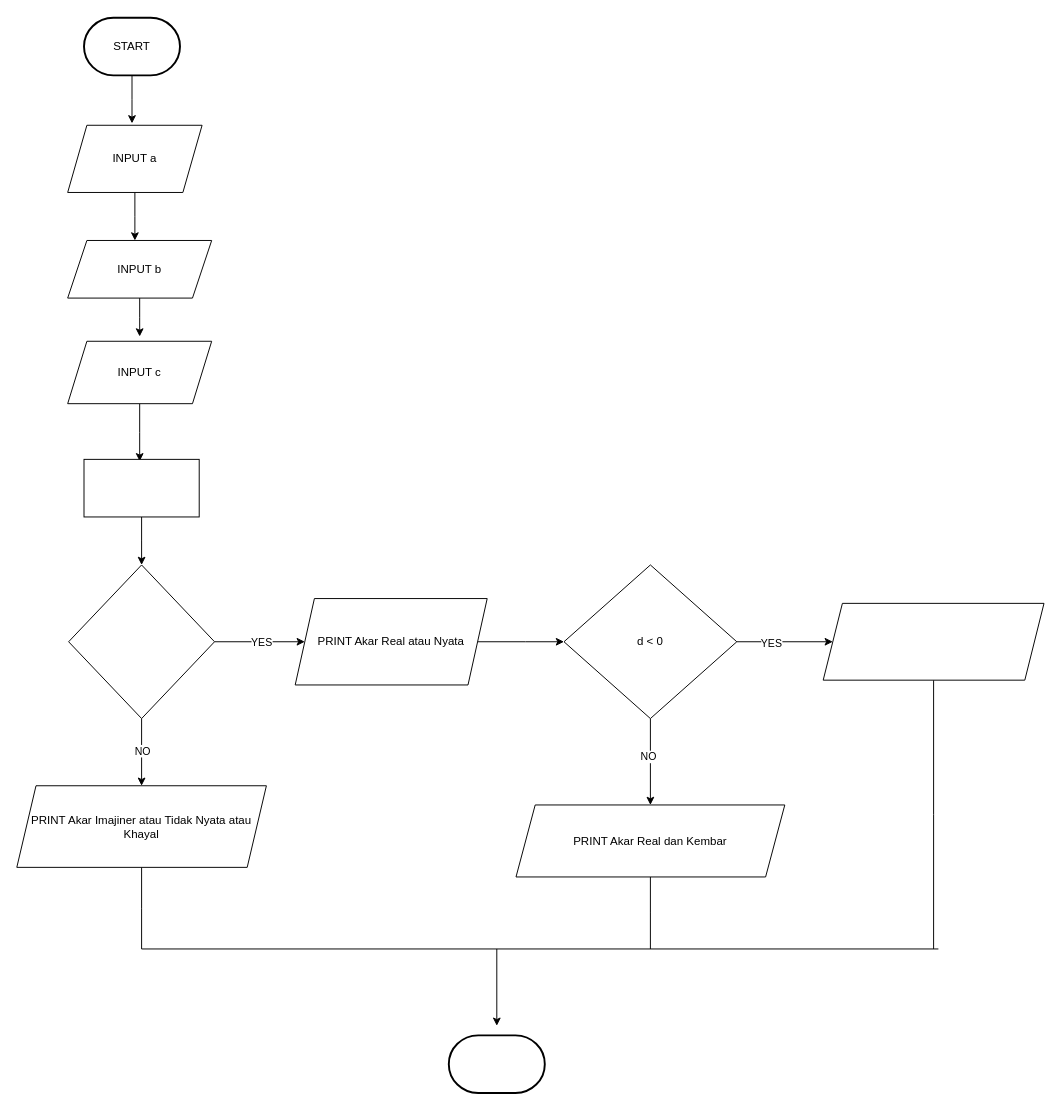
This 1061x1110 diagram has some shape labels left out. Each missing label, with the box of its shape:
d = b ** 2 - 4 * a * c: (83, 458, 199, 517)
d >= 0: (68, 564, 215, 719)
END: (447, 1034, 545, 1093)
PRINT Akar Real dan Berlainan: (822, 602, 1044, 680)
